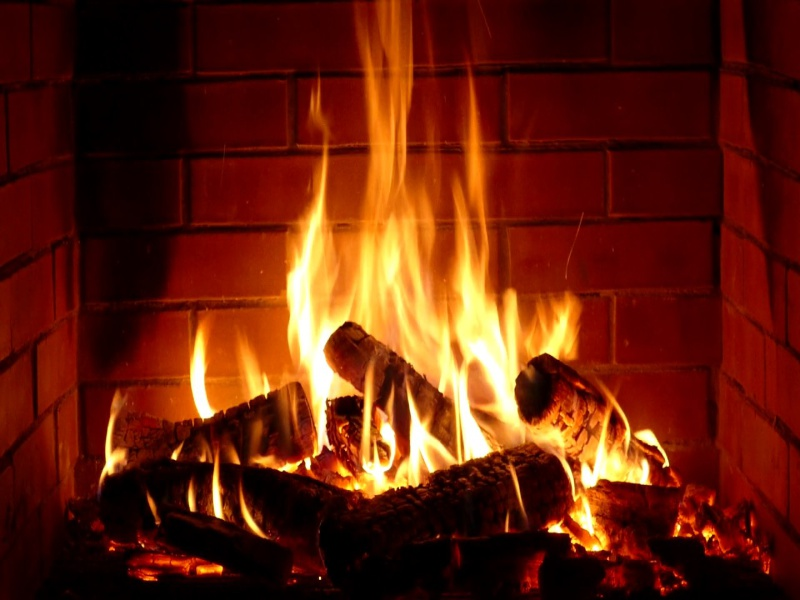fire: (259, 2, 635, 508)
